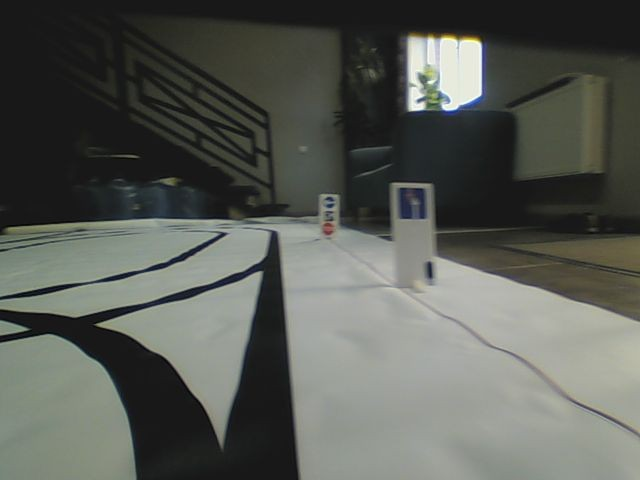priority_movement: (395, 186, 430, 220)
